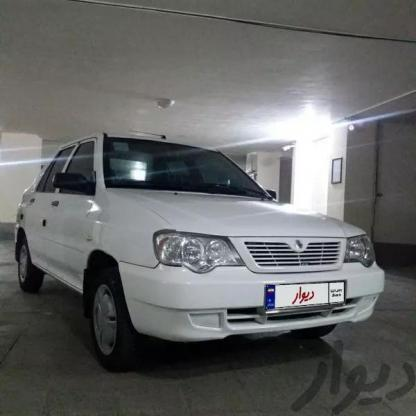Car: (13, 136, 388, 367)
